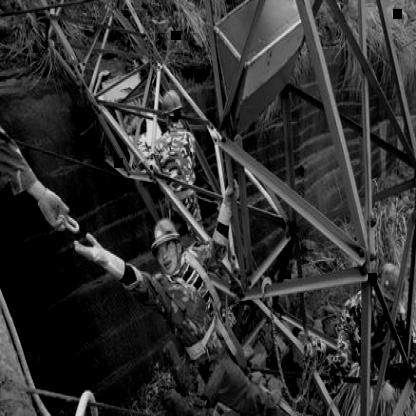helmet: (143, 212, 187, 256), (372, 256, 406, 302), (155, 84, 191, 121)
